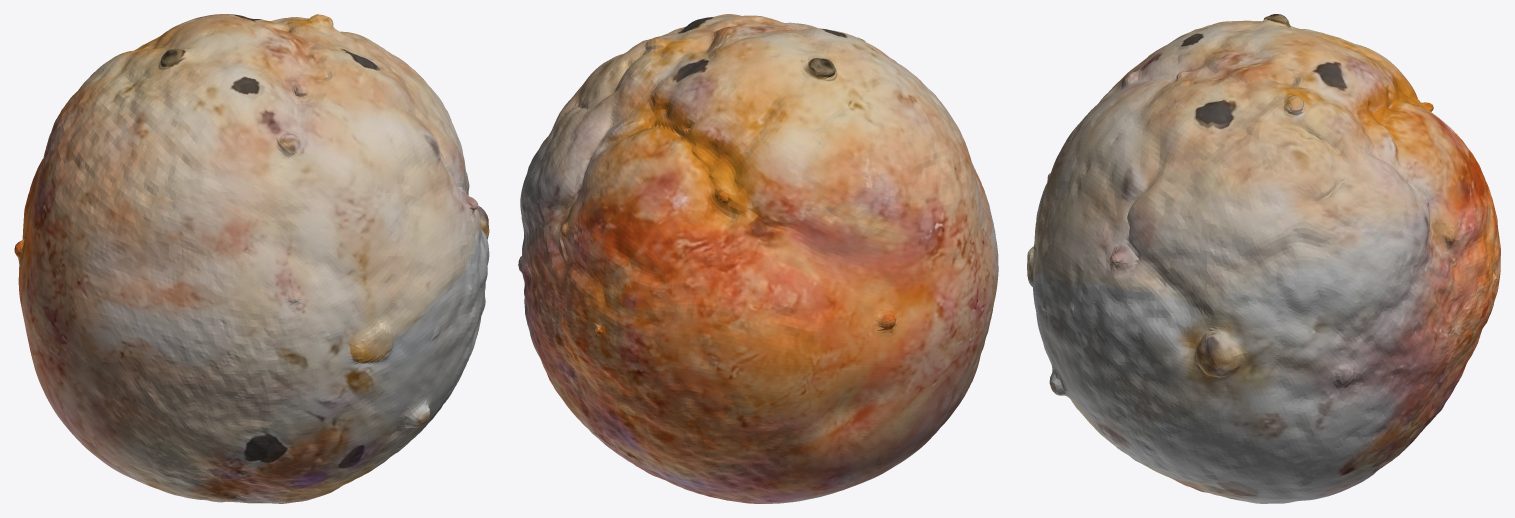
File: fox_nut.glb
The picture shows the model from 3 angles, left to right: view 1: azimuth 30°, elevation 25°; view 2: azimuth 150°, elevation 25°; view 3: azimuth 270°, elevation 25°; orthographic projection. The views are drawn at different scales.
Parts seen in each view (by area): view 1: tripo_node_95454ec8-c851-4bd6-af32-823ee7663e27; view 2: tripo_node_95454ec8-c851-4bd6-af32-823ee7663e27; view 3: tripo_node_95454ec8-c851-4bd6-af32-823ee7663e27.
Boxes of the visible parts, left/top/right/bottom form: tripo_node_95454ec8-c851-4bd6-af32-823ee7663e27: left=14, top=14, right=489, bottom=503; tripo_node_95454ec8-c851-4bd6-af32-823ee7663e27: left=518, top=14, right=998, bottom=503; tripo_node_95454ec8-c851-4bd6-af32-823ee7663e27: left=1027, top=14, right=1500, bottom=503.
Size of the model in its own units: 0.9827 by 0.9992 by 0.9809.
Materials: 1 (1 with a texture image).
